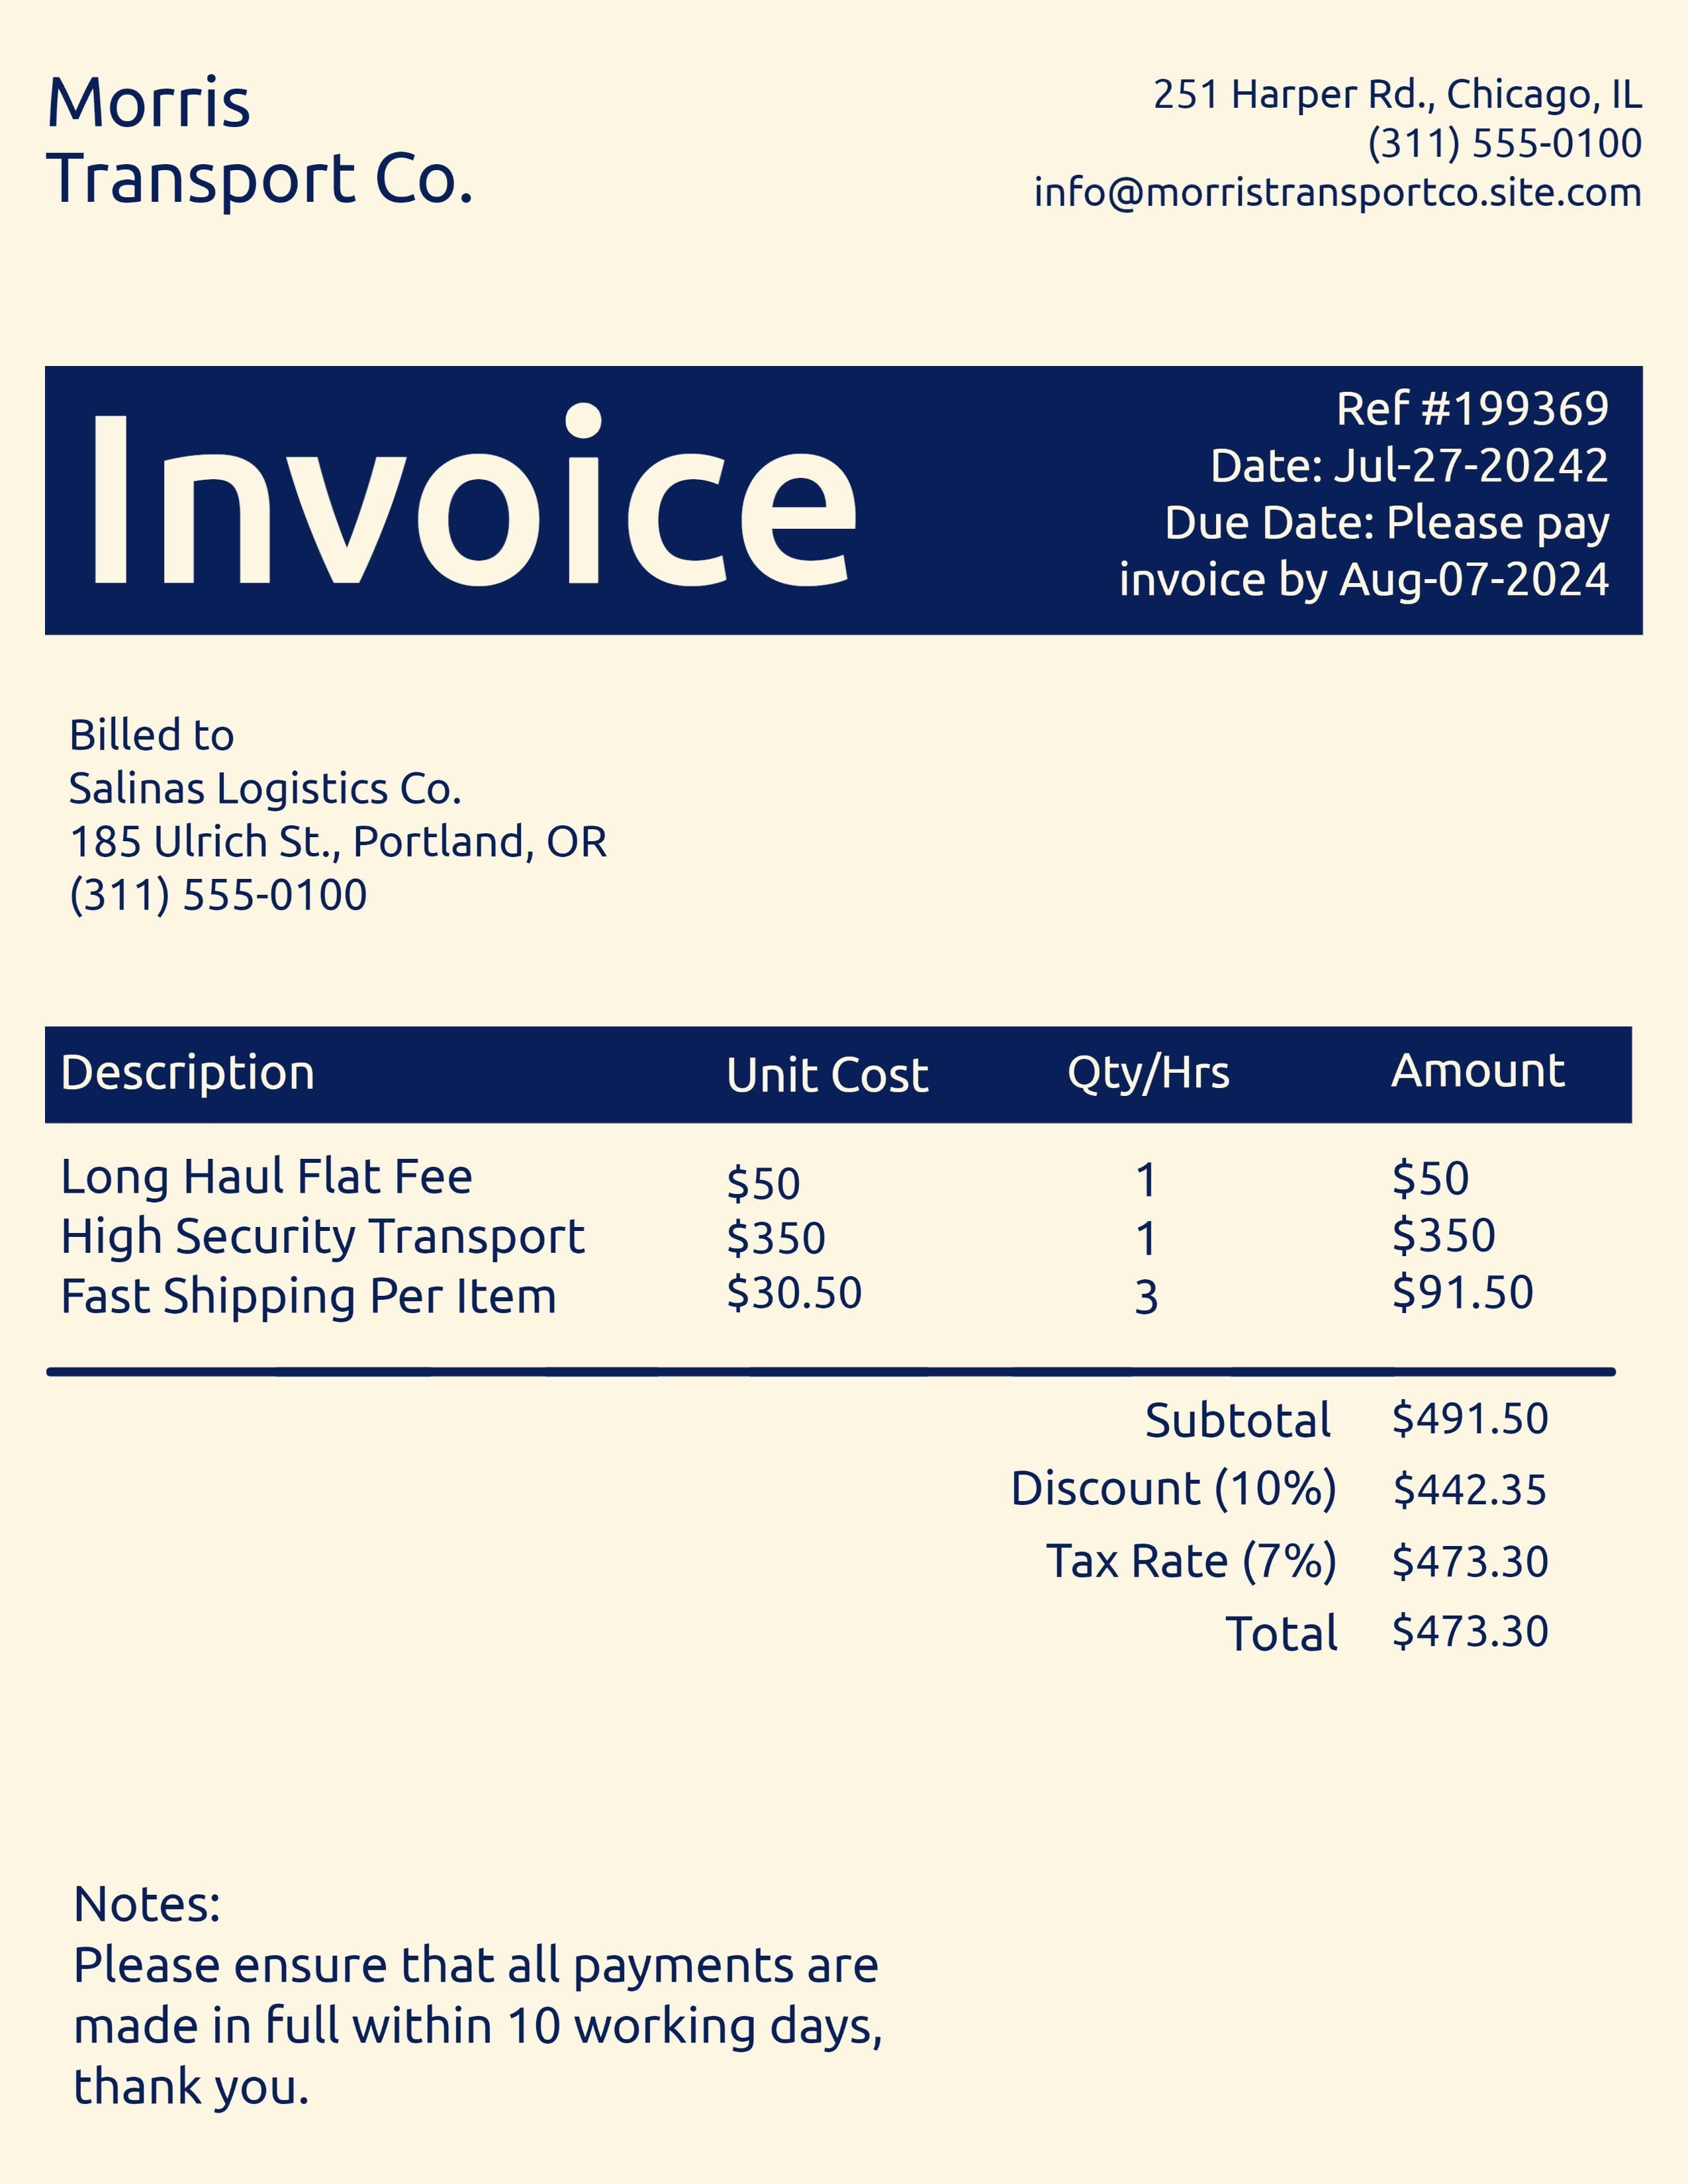ROI: (57, 1030, 1578, 1333), (20, 62, 1668, 241), (66, 1936, 936, 2145), (1004, 1386, 1576, 1675), (46, 707, 645, 943), (1115, 378, 1612, 608)
